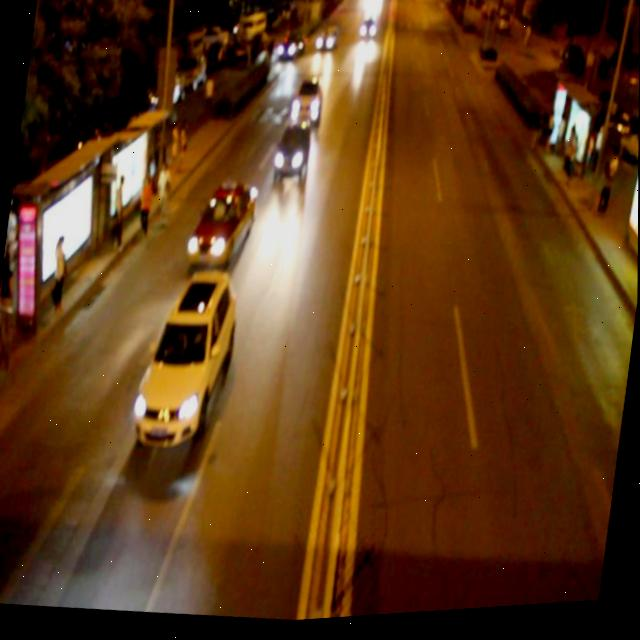car: (129, 263, 241, 457), (188, 175, 258, 278), (271, 119, 313, 186), (287, 76, 324, 133), (313, 26, 339, 60)
van: (0, 442, 9, 602)
